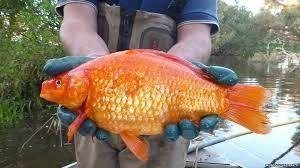Gold Fish: (41, 47, 273, 161)
